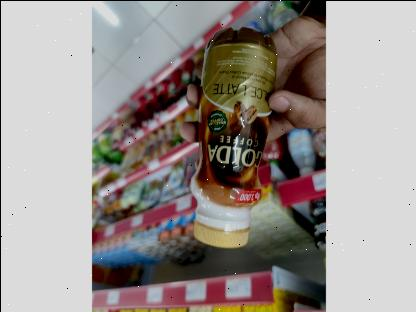Plastic Bottle: (178, 22, 282, 250)
